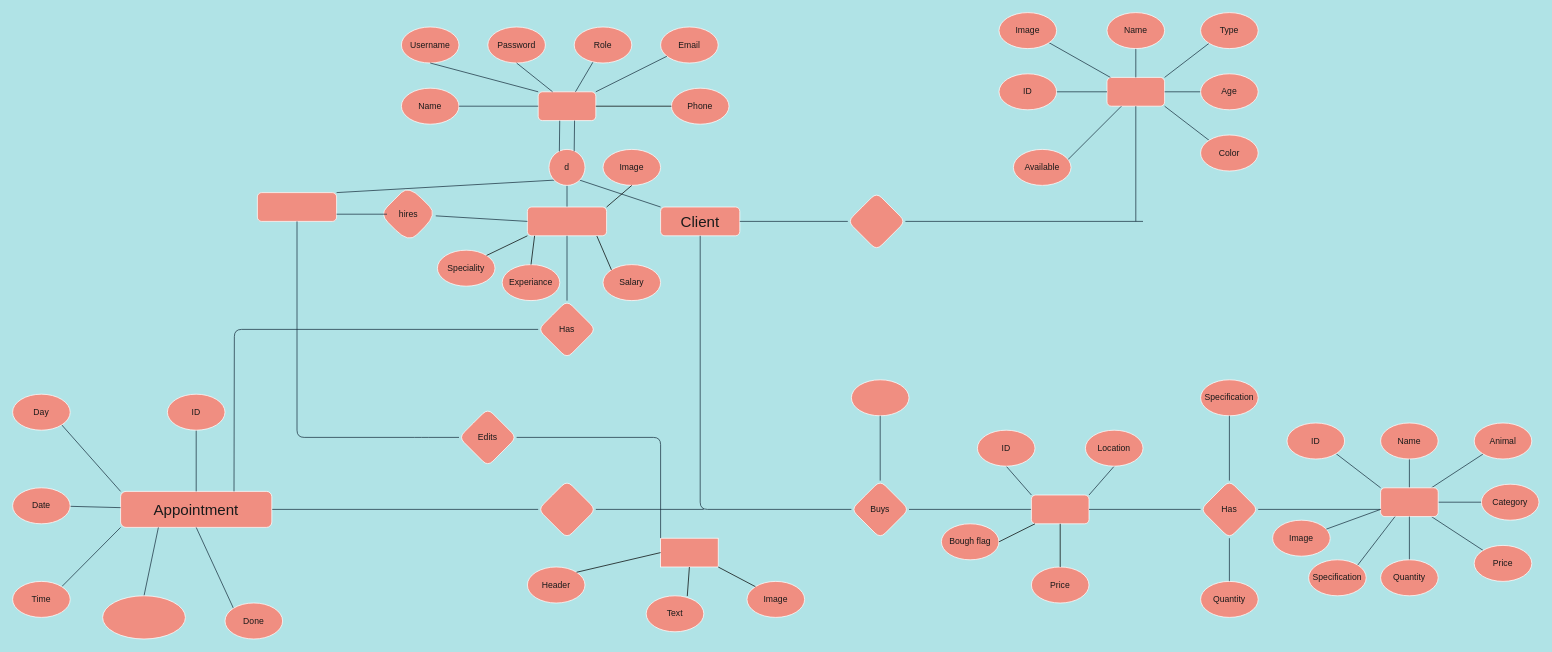
The diagram is 1552 pixels wide and 652 high, and some of its shapes have lost their labels. Each missing label, with the centre of its shape:
Adopts: [876,221]
Books: [566,509]
Cart: [1060,509]
Confirmation: [143,617]
Home: [689,552]
Item: [1409,502]
Manager: [297,206]
Pet: [1135,91]
Status: [880,397]
User: [566,106]
Vet: [567,221]
